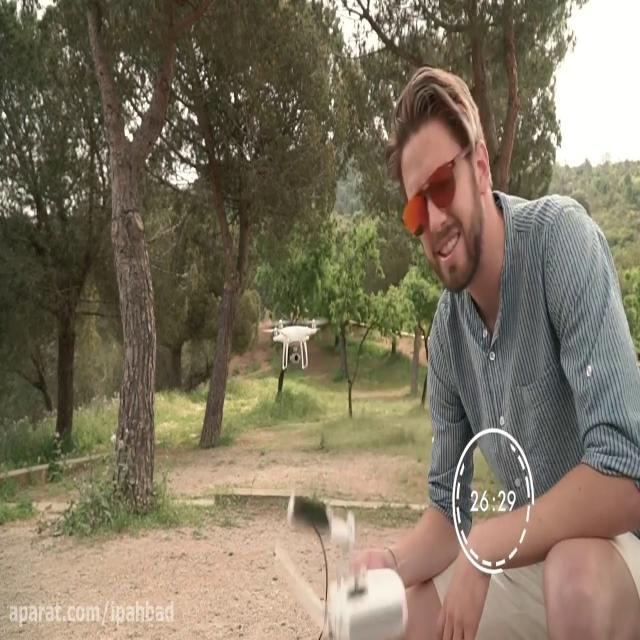drone: (259, 308, 329, 372)
